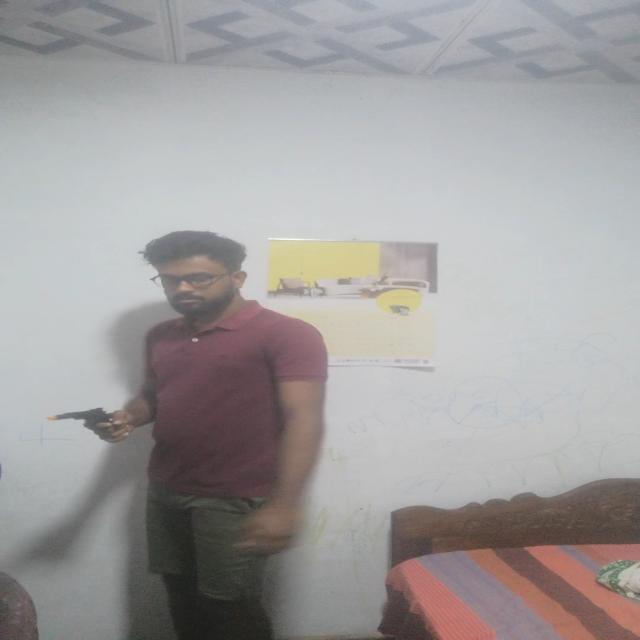Gun_Holder: (45, 404, 146, 438)
Person: (92, 229, 332, 640)
